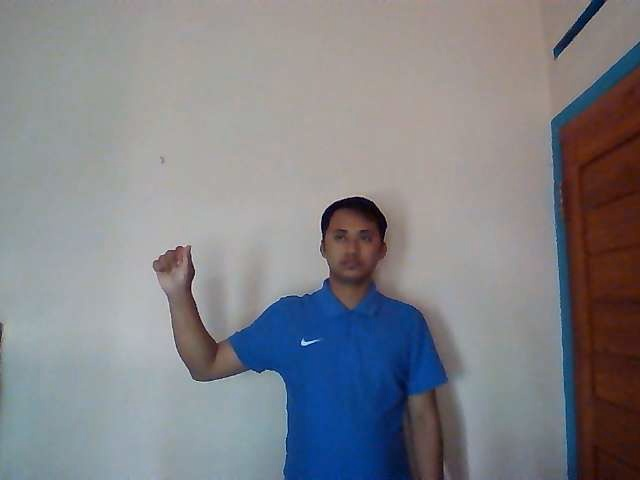A: (152, 244, 198, 290)
